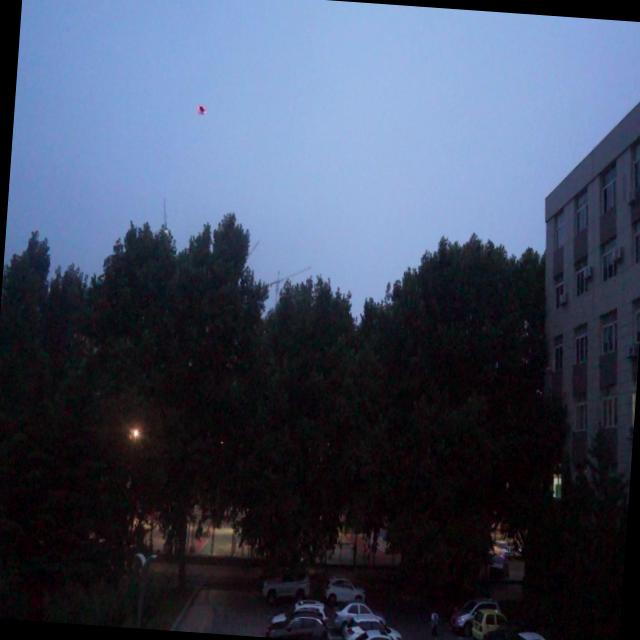drone: (196, 100, 206, 120)
